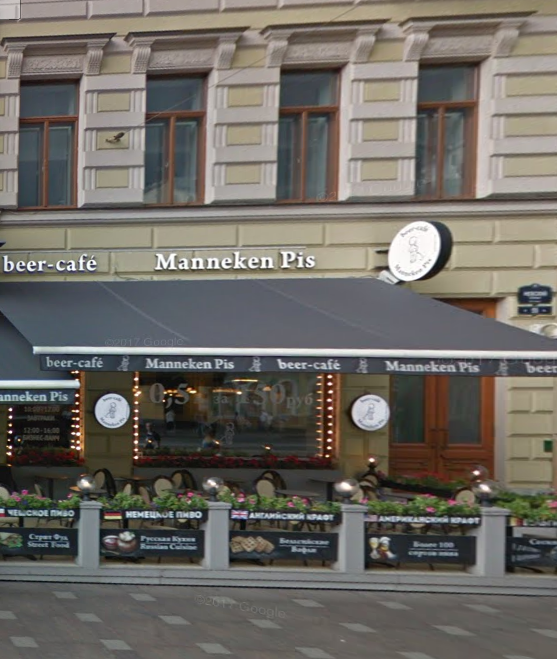cantilever: (366, 214, 462, 289)
door: (396, 298, 497, 492)
signboard: (148, 248, 319, 273), (1, 252, 104, 277), (341, 390, 397, 432), (92, 391, 133, 430)
window: (280, 67, 341, 203), (420, 54, 475, 197), (20, 77, 77, 211), (146, 71, 201, 205)
